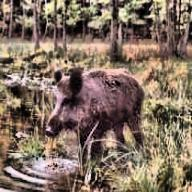boar: (44, 68, 144, 160)
